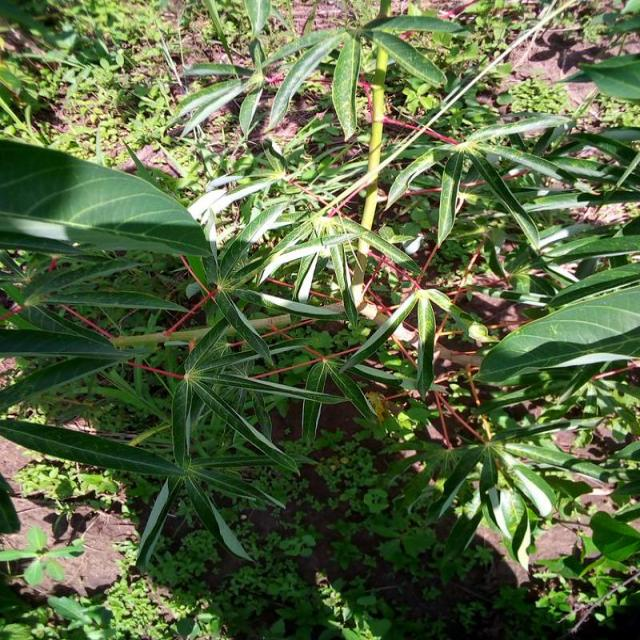cassava leaf: (0, 135, 218, 281), (473, 284, 639, 388)
